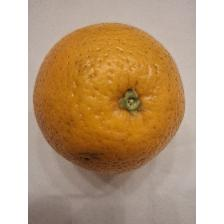Orange: (32, 20, 188, 176)
